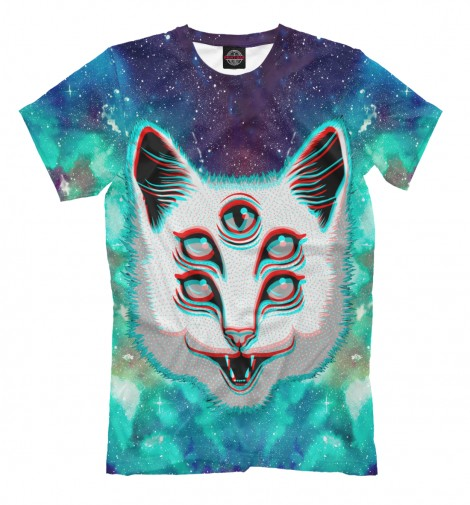cat: (118, 122, 363, 418)
